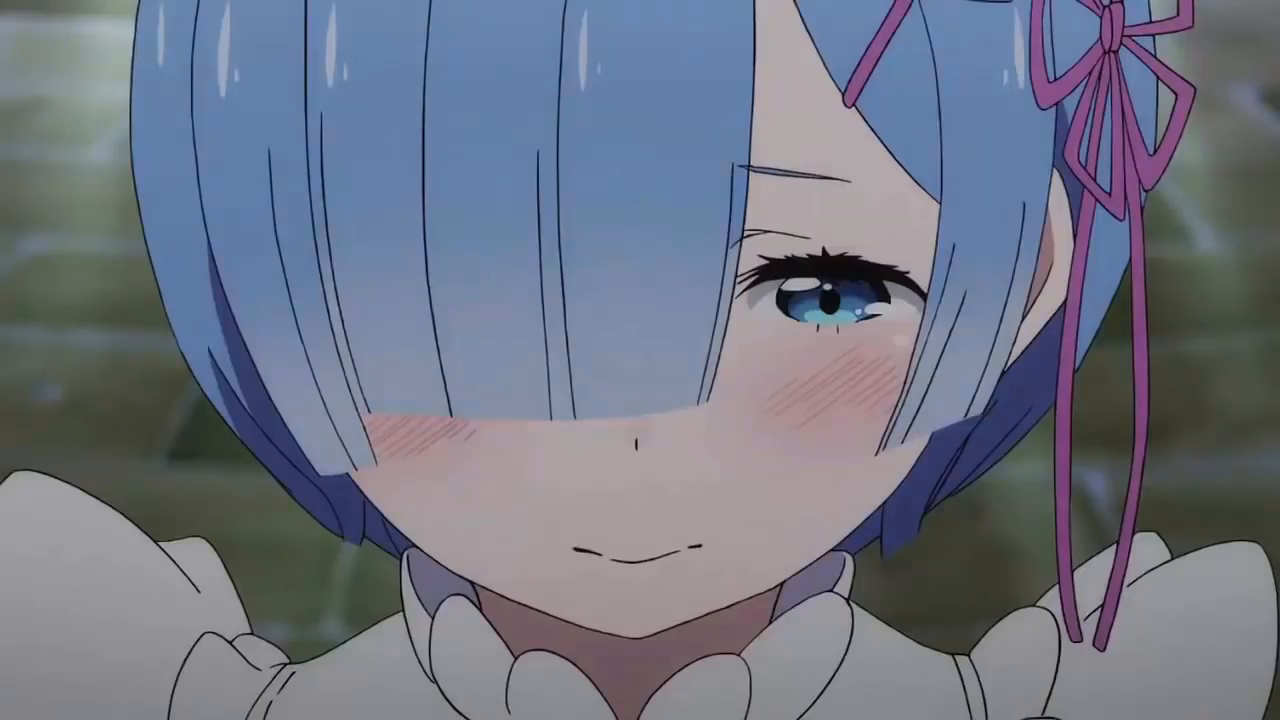REM: (127, 2, 1162, 643)
